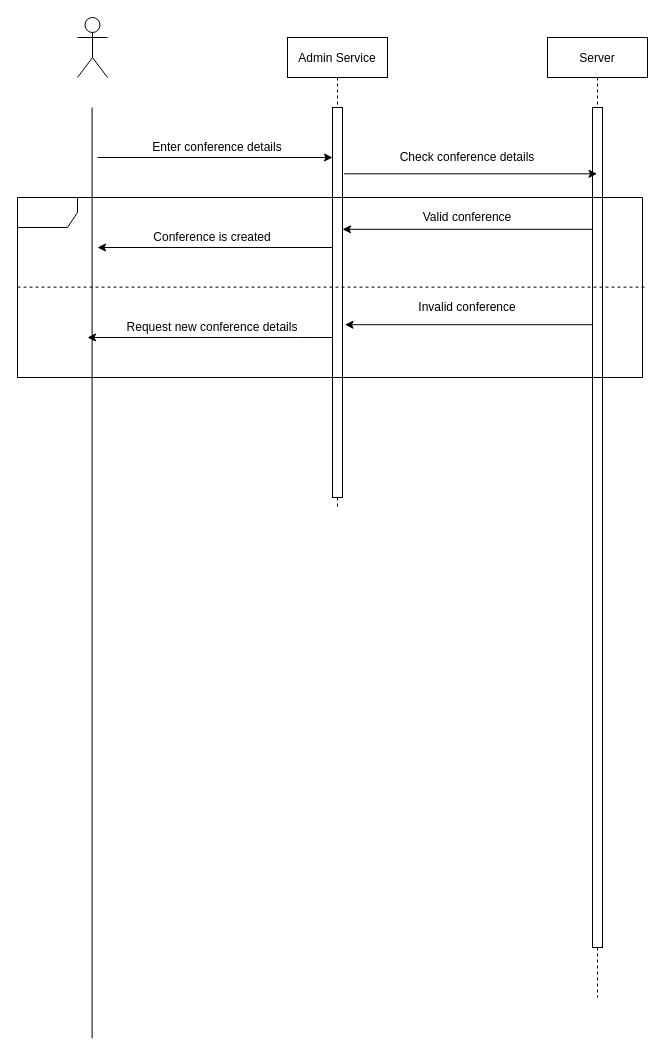
Some shapes in this 665 by 1057 pixel diagram are drawn without their labels. The centre of each missing label's shape, as x and y in pixels:
"Admin" belongs at point 92,47.
"Alternative" belongs at point 329,287.
